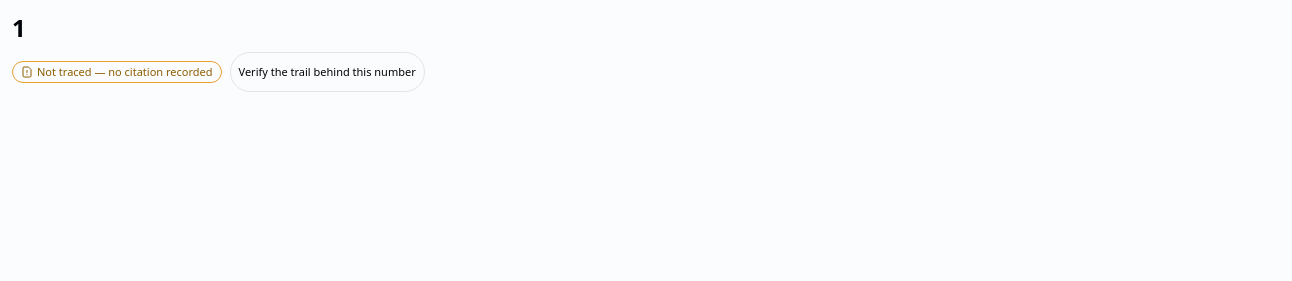
Test case: TraceableFigure › shows a named cause when the chain is broken
What coordinates should you click on to do the following:
click the button "Verify the trail behind this number"
I would click on:
 (327, 72)
Its box is [230,52,425,92].
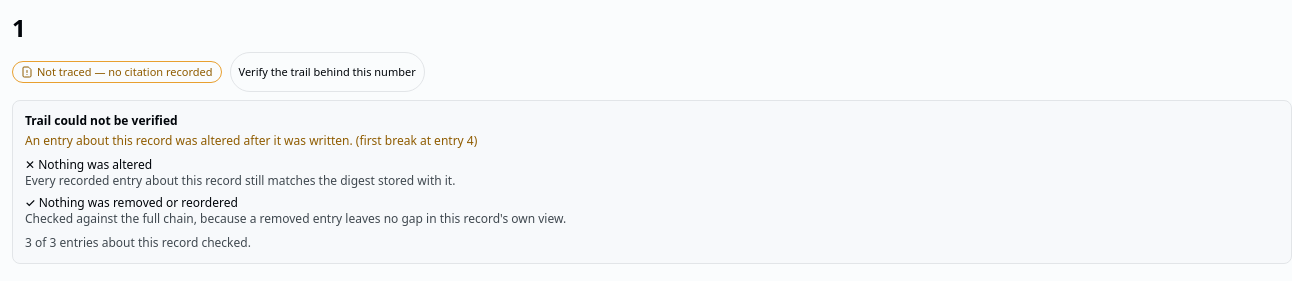
Now the text "Trail could not be verified" is shown, box [25,112,178,129]
Now the text "altered after it was written" is shown, box [25,132,353,149]
